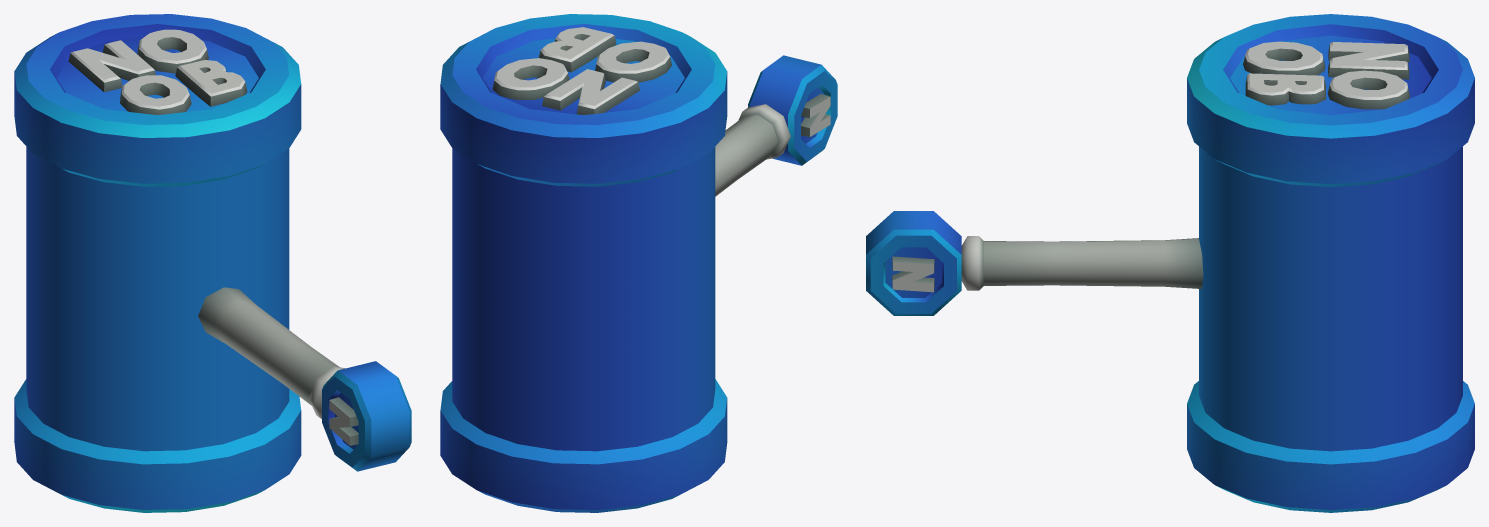
The model's file is Melee_NoobHammer.fbx.
3 views of the same model, side by side, from view 1: azimuth 30°, elevation 25°; view 2: azimuth 150°, elevation 25°; view 3: azimuth 270°, elevation 25° (orthographic).
Visible parts, largest first — view 1: Melee_NoobHammer; view 2: Melee_NoobHammer; view 3: Melee_NoobHammer.
Part boxes in pixels (bbox=[...]): Melee_NoobHammer: bbox=[14, 14, 411, 512]; Melee_NoobHammer: bbox=[440, 14, 837, 512]; Melee_NoobHammer: bbox=[866, 14, 1474, 512].
Bounding box in the file's own units: 0.4909 × 0.739 × 1.04.
